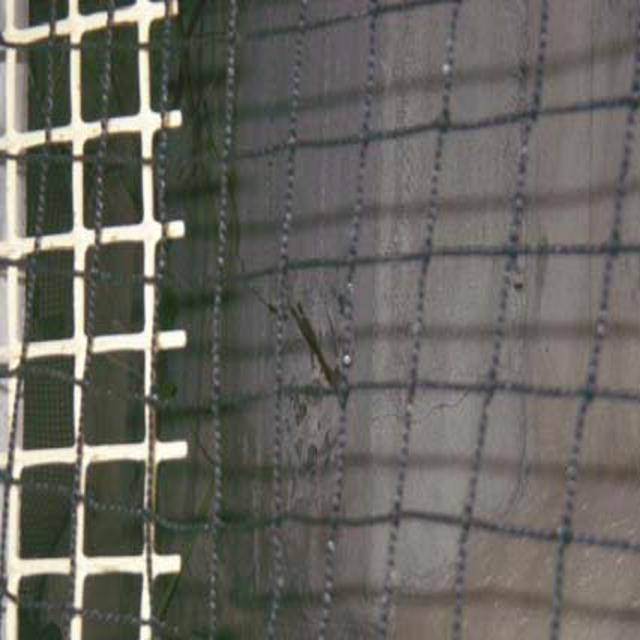spalling: (263, 282, 344, 462)
